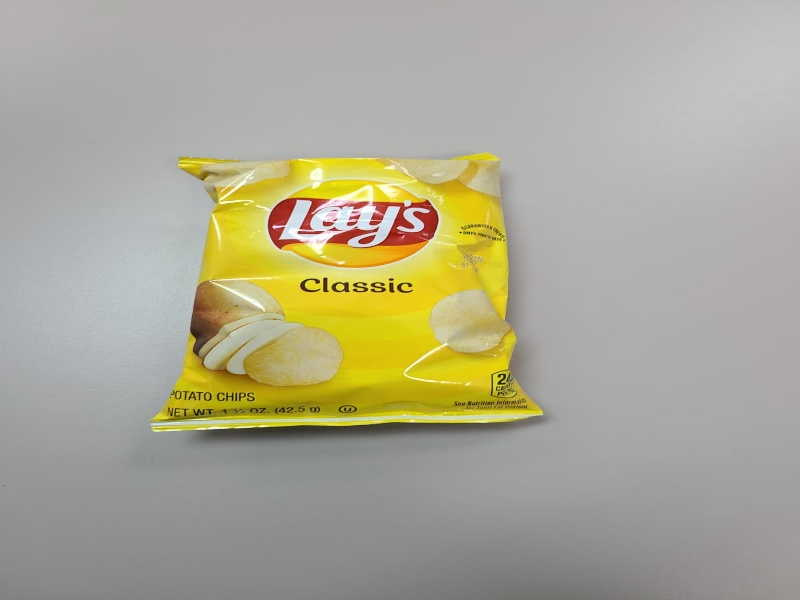lays: (156, 133, 552, 434)
